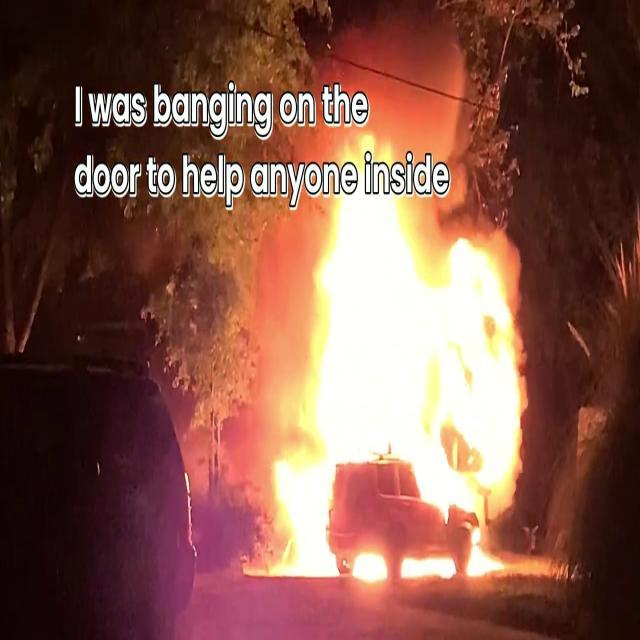Fire: (258, 116, 534, 584)
